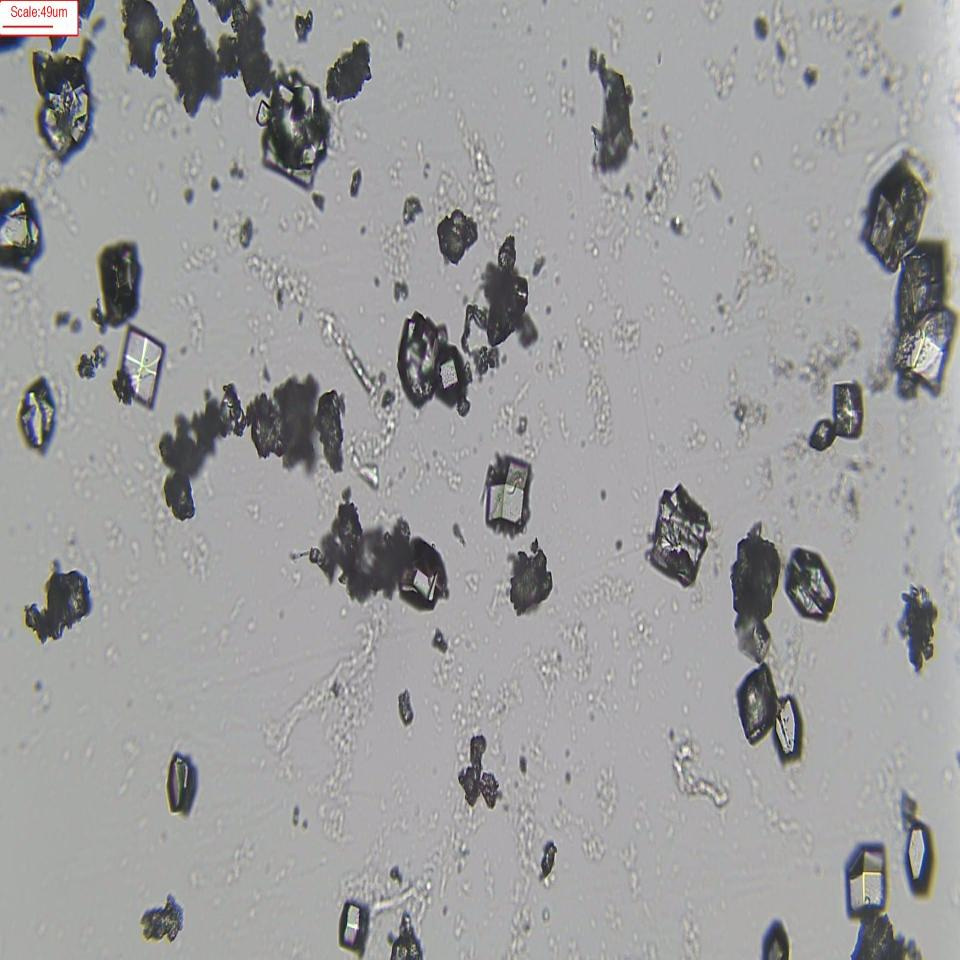crystal: (261, 80, 328, 183), (864, 156, 925, 264), (89, 235, 152, 328), (36, 60, 94, 158), (652, 487, 707, 588), (396, 304, 443, 406), (115, 325, 163, 409), (398, 540, 450, 617), (483, 455, 532, 532), (786, 547, 835, 621), (737, 668, 778, 746), (842, 839, 887, 908), (0, 190, 43, 260), (20, 379, 58, 451), (166, 746, 195, 818), (773, 697, 803, 763), (338, 894, 370, 952), (834, 382, 865, 439), (903, 822, 929, 888), (437, 350, 464, 404), (808, 418, 834, 452)
not_crystal: (895, 250, 958, 391), (20, 572, 93, 644)
